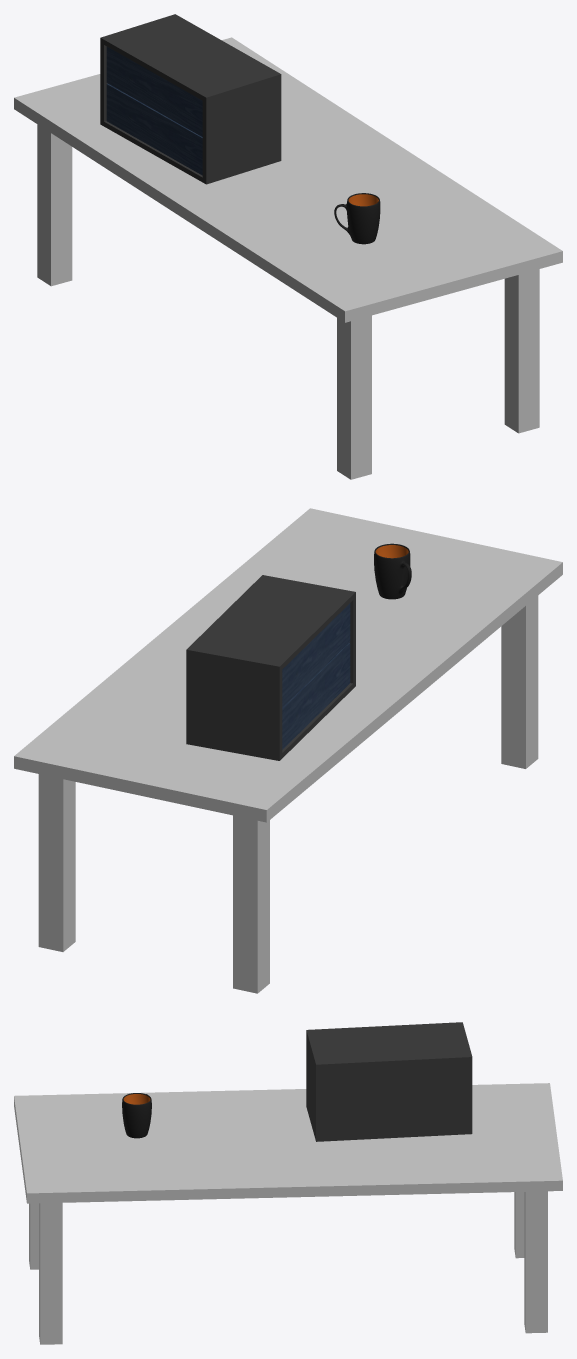
File: starting desk.fbx
The picture shows the model from 3 angles, top to bottom: view 1: azimuth 30°, elevation 25°; view 2: azimuth 150°, elevation 25°; view 3: azimuth 270°, elevation 25°; orthographic projection. The views are drawn at different scales.
Visible parts, largest first — view 1: starting desk, dresser, dresser drawer 2, dresser drawer 1, mug; view 2: starting desk, dresser, dresser drawer 2, dresser drawer 1, mug; view 3: starting desk, dresser, mug.
Part boxes in pixels (<box>): starting desk: <box>14,37,562,479</box>; dresser: <box>100,14,281,184</box>; dresser drawer 2: <box>106,83,202,175</box>; dresser drawer 1: <box>106,46,202,136</box>; mug: <box>334,193,380,244</box>; starting desk: <box>14,508,562,993</box>; dresser: <box>186,575,355,760</box>; dresser drawer 2: <box>282,642,350,749</box>; dresser drawer 1: <box>282,603,350,707</box>; mug: <box>374,543,411,599</box>; starting desk: <box>14,1083,562,1344</box>; dresser: <box>306,1022,472,1141</box>; mug: <box>122,1093,151,1138</box>.
Bounding box in the file's own units: 106 × 106 × 223.
